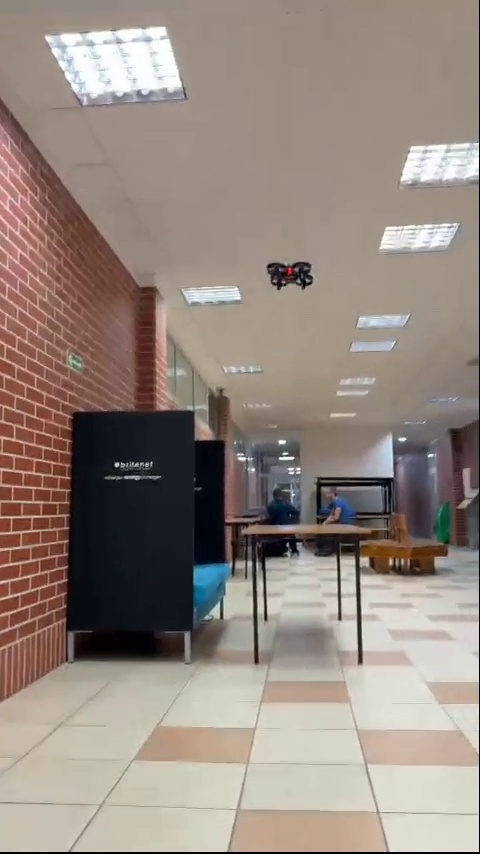drone: (266, 259, 311, 286)
no vest: (319, 485, 357, 526), (265, 485, 295, 521)
